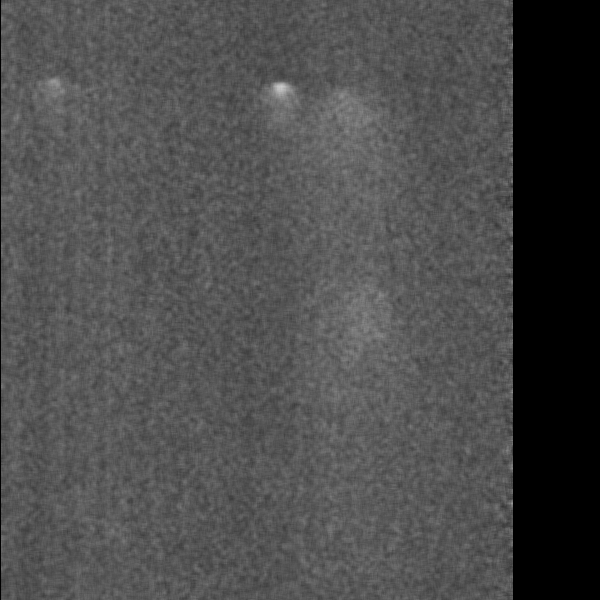spark: (263, 77, 293, 138), (40, 73, 65, 126), (334, 83, 350, 116)
